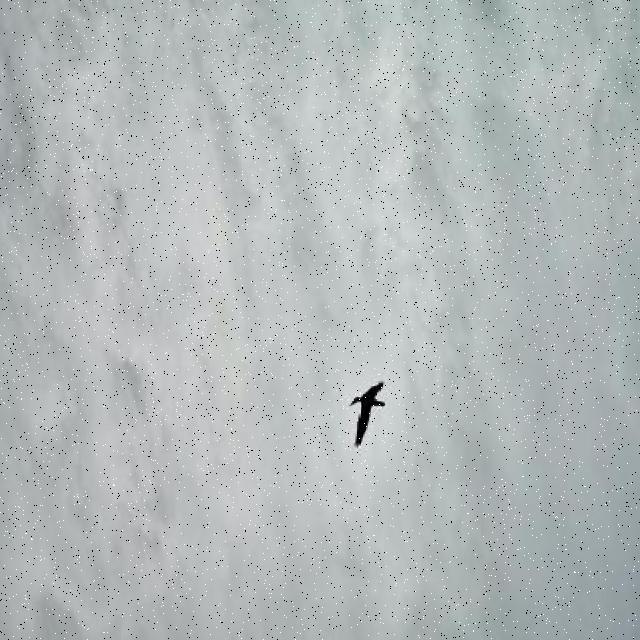bird: (350, 380, 386, 448)
